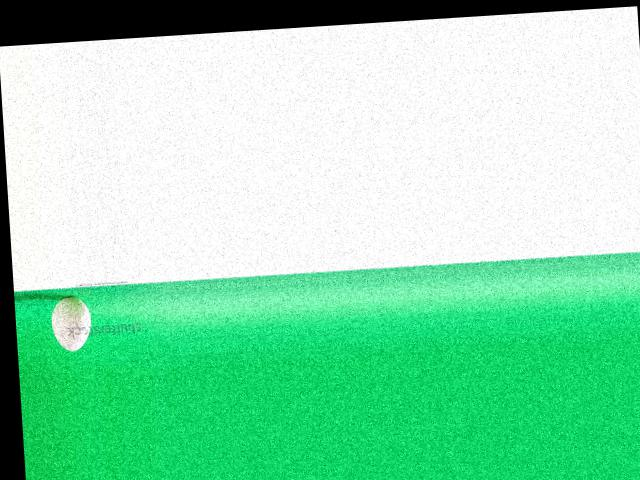egg: (49, 294, 92, 352)
